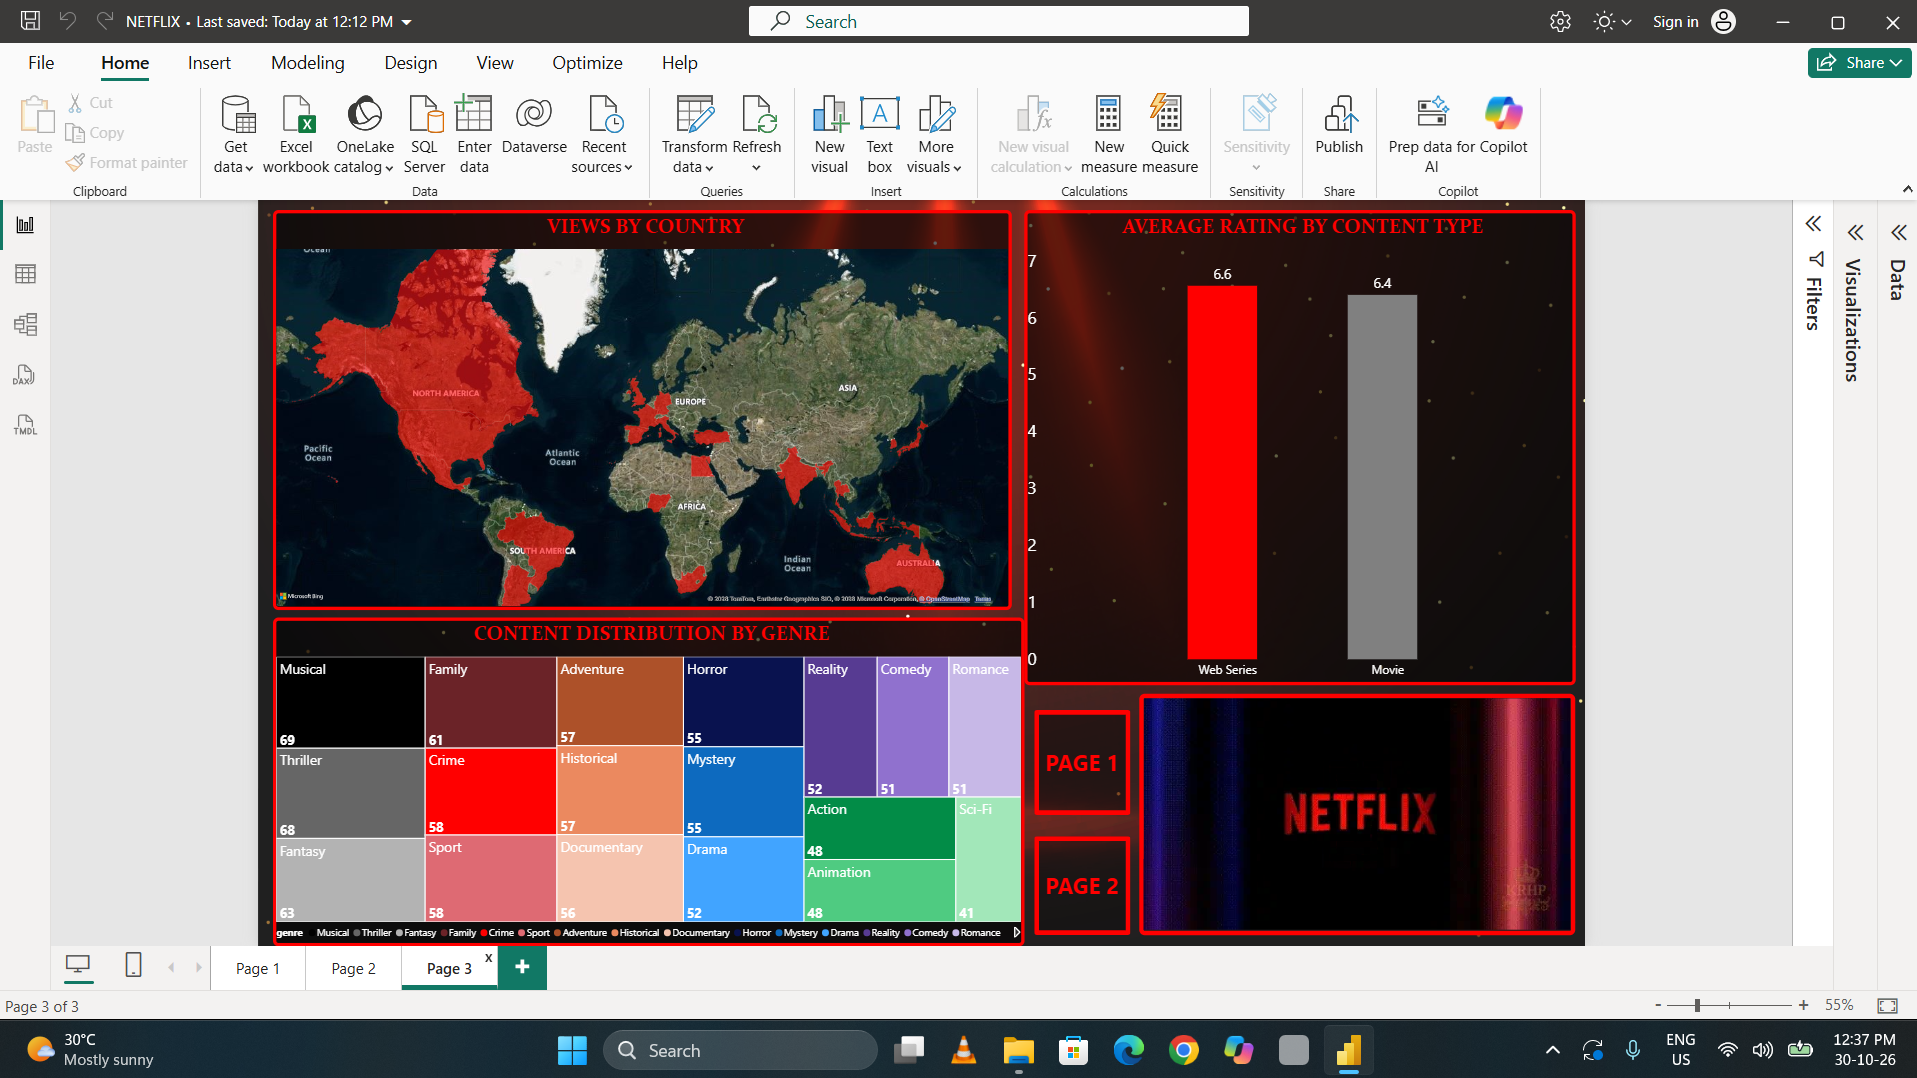

Layout of this report page (visuals, bound fields, positions):
{"tool":"powerbi","page":{"name":"Page 3","canvas":[1920,1080],"ordinal":2},"visuals":[{"type":"filledMap","title":"VIEWS BY COUNTRY","fields":{"Category":["Netflix_Data.country"]},"box":[21.7,14.5,1069.5,579.1],"z":0},{"type":"treemap","title":"CONTENT DISTRIBUTION BY GENRE","fields":{"Group":["Netflix_Data.genre"],"Values":["CountNonNull(Netflix_Data.show_id)"]},"box":[21.7,604.4,1087.6,475.9],"z":1000},{"type":"clusteredColumnChart","title":"AVERAGE RATING BY CONTENT TYPE","fields":{"Category":["Netflix_Data.content_type"],"Y":["Avg(Netflix_Data.rating)"]},"box":[1109.3,14.5,798.1,687.7],"z":1001},{"type":"image","box":[1275.8,714.8,631.6,349.3],"z":1002},{"type":"actionButton","box":[1123.8,738.3,139.3,152],"z":1003},{"type":"actionButton","box":[1123.8,921.1,139.3,143],"z":1004}]}

Visuals, with their boxes on the page's 1920x1080 design canvas (x1, y1, x2, y2). These are canvas units, not pixel positions in the 1917x1078 screenshot, which may show the page scaled, cropped or inside an application window:
"VIEWS BY COUNTRY" filledMap: {"x1": 22, "y1": 14, "x2": 1091, "y2": 594}
"CONTENT DISTRIBUTION BY GENRE" treemap: {"x1": 22, "y1": 604, "x2": 1109, "y2": 1080}
"AVERAGE RATING BY CONTENT TYPE" clusteredColumnChart: {"x1": 1109, "y1": 14, "x2": 1907, "y2": 702}
image: {"x1": 1276, "y1": 715, "x2": 1907, "y2": 1064}
actionButton: {"x1": 1124, "y1": 738, "x2": 1263, "y2": 890}
actionButton: {"x1": 1124, "y1": 921, "x2": 1263, "y2": 1064}
